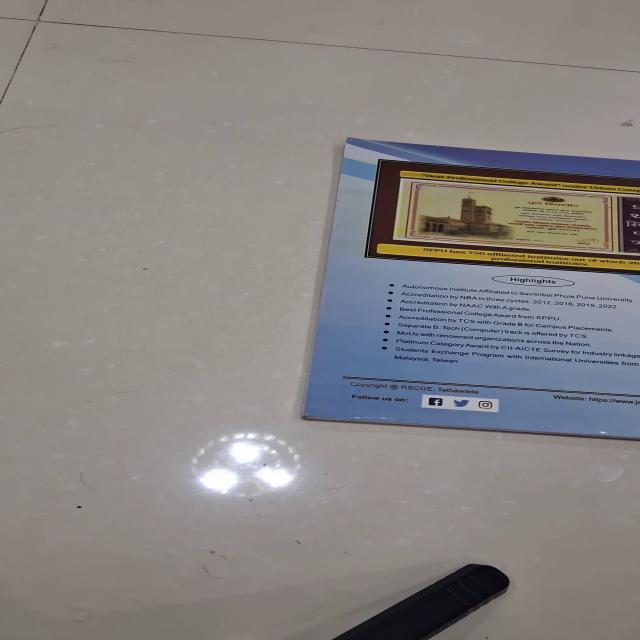paper: (298, 136, 638, 440)
